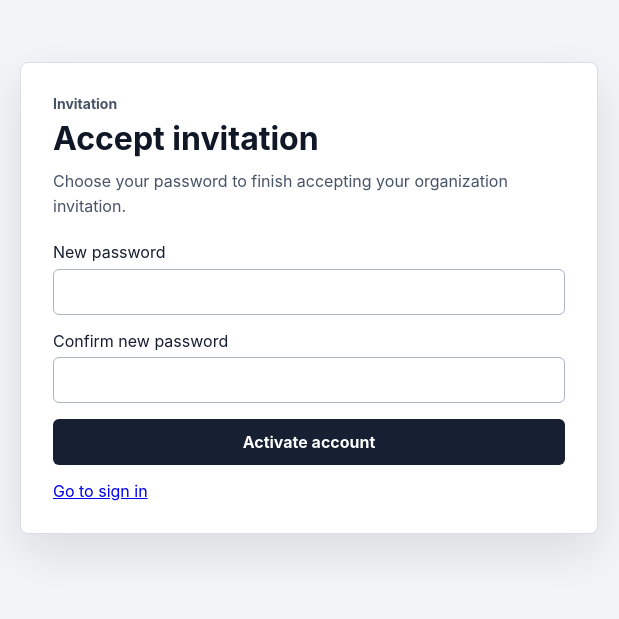
Test case: shows safe retry guidance for rate limits
Type "StrongPass123!" into the password field labelled "New password". click: (309, 292)
box: left=53, top=269, right=565, bottom=315
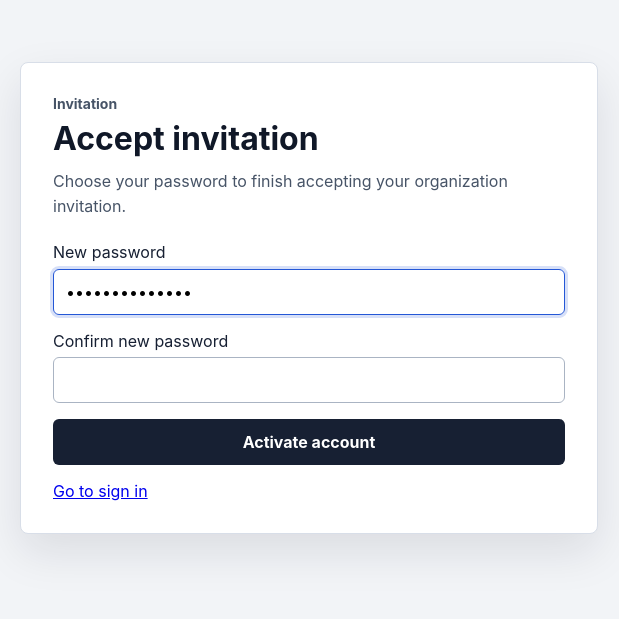
Type "StrongPass123!" into the password field labelled "Confirm new password". click: (309, 380)
box: left=53, top=357, right=565, bottom=403
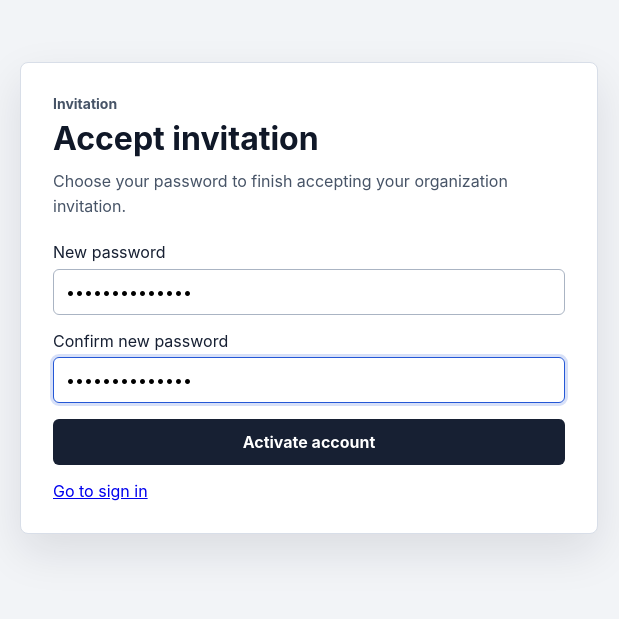
Click the button "Activate account". click: (309, 442)
box: left=53, top=419, right=565, bottom=465
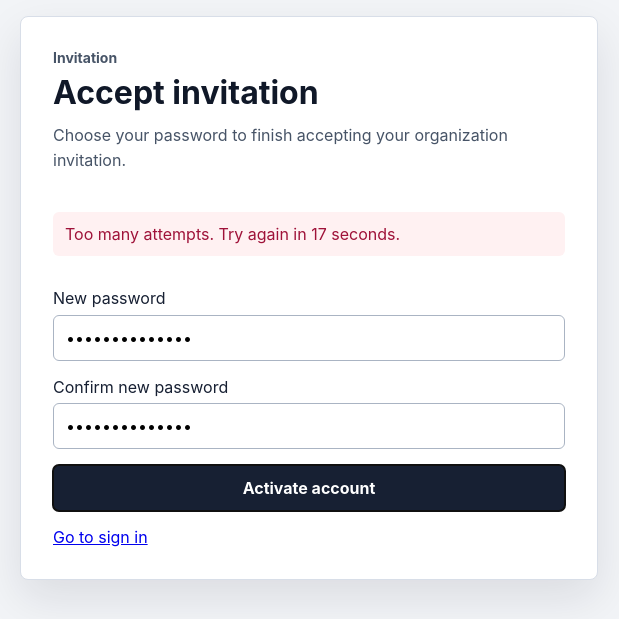
Expected: the message shows "17 seconds", left=65, top=224, right=400, bottom=244
